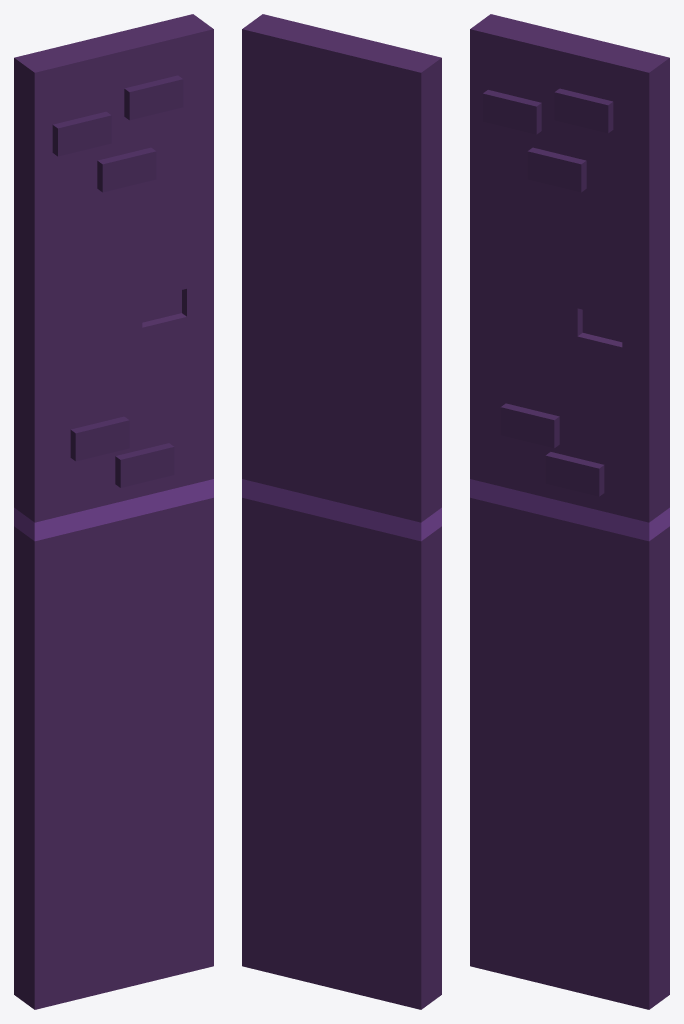
File: wall1.obj
3 renders of one model, left to right at view 1: azimuth 30°, elevation 25°; view 2: azimuth 150°, elevation 25°; view 3: azimuth 330°, elevation 25°, orthographic.
Bounding box in the file's own units: 2 × 10 × 0.5.
Materials: 1 (1 with a texture image).
